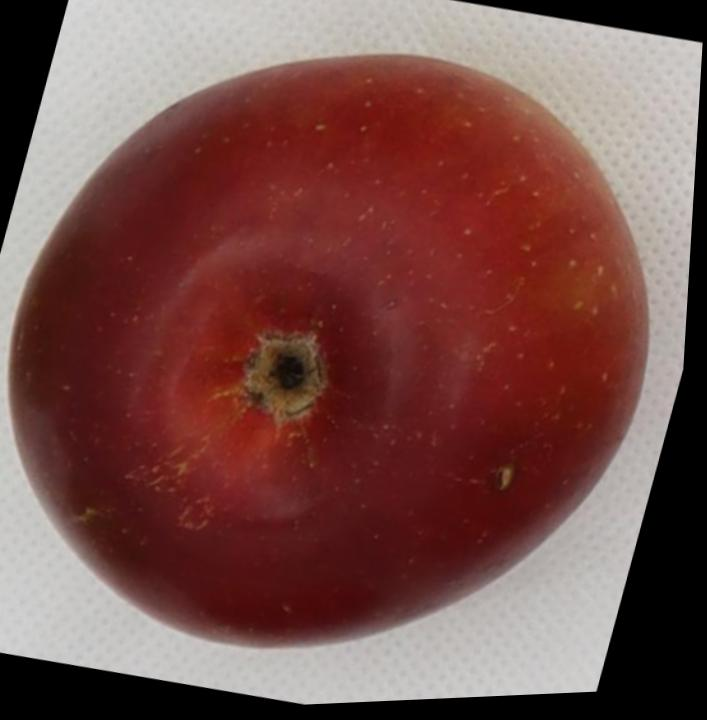apple: (10, 55, 646, 646)
surface_damage: (493, 463, 515, 490)
